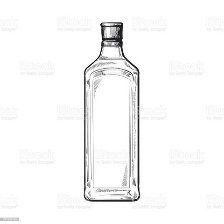bottle: (75, 14, 144, 203)
